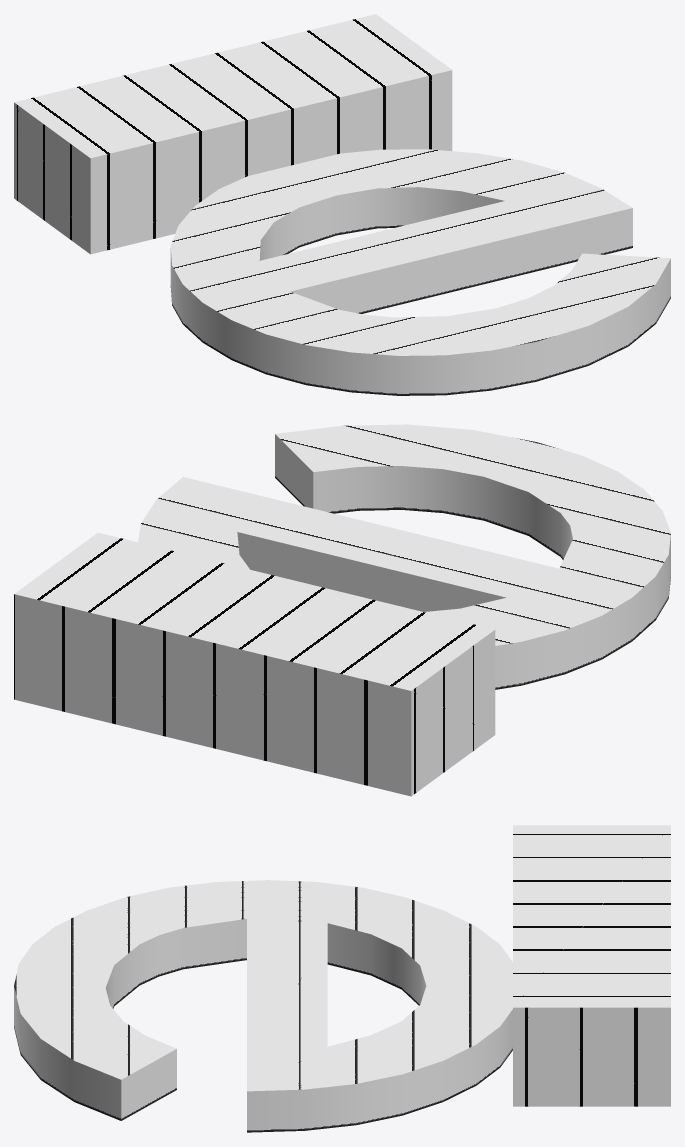
The model's file is electron3d2.fbx.
3 views of the same model, one above another, from view 1: azimuth 30°, elevation 25°; view 2: azimuth 150°, elevation 25°; view 3: azimuth 270°, elevation 25° (orthographic). The views are drawn at different scales.
Parts seen in each view (by area): view 1: e1, Model; view 2: Model, e1; view 3: e1, Model.
Boxes of the visible parts, <box> form: e1: <box>170,149,670,395</box>; Model: <box>14,14,452,254</box>; Model: <box>14,532,495,796</box>; e1: <box>138,424,670,689</box>; e1: <box>14,880,512,1132</box>; Model: <box>513,825,670,1106</box>.
Bounding box in the file's own units: 4.57 × 1 × 6.01.
